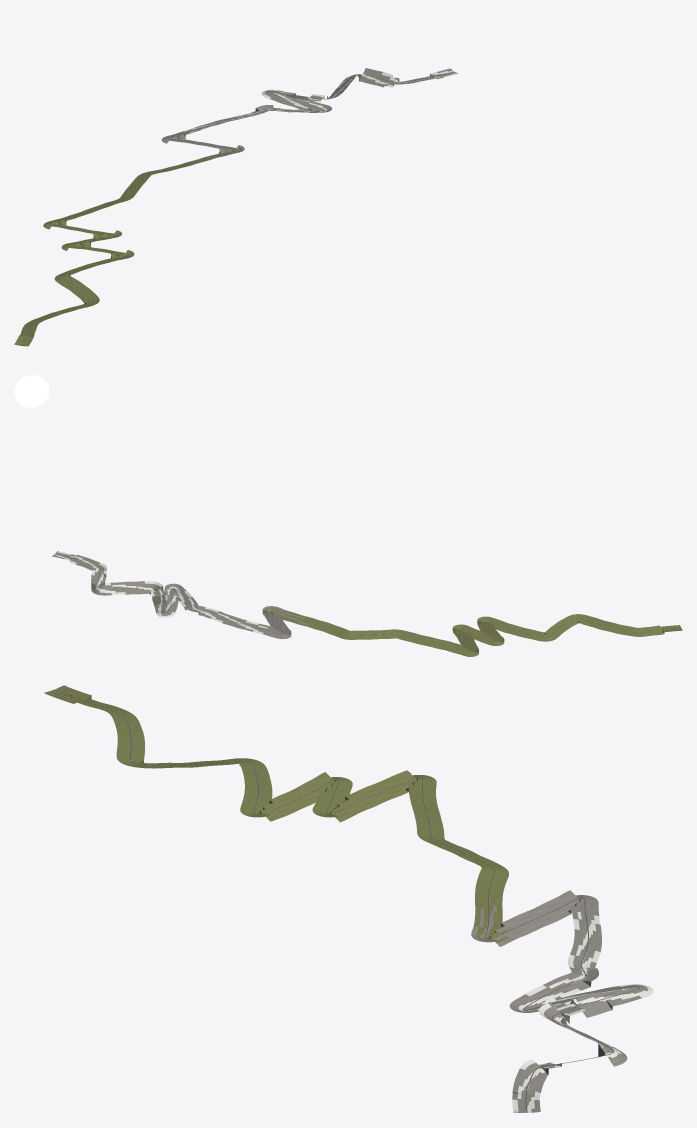
The model's file is galibier.glb.
The picture shows the model from 3 angles, top to bottom: view 1: azimuth 30°, elevation 25°; view 2: azimuth 150°, elevation 25°; view 3: azimuth 270°, elevation 25°; orthographic projection. The views are drawn at different scales.
Visible parts, largest first — view 1: no part large enough to name; view 2: Sun; view 3: no part large enough to name.
Boxes of the visible parts, bbox=[...] form: Sun: bbox=[14, 375, 49, 407].
Bounding box in the file's own units: 17124 × 3218 × 7109.
